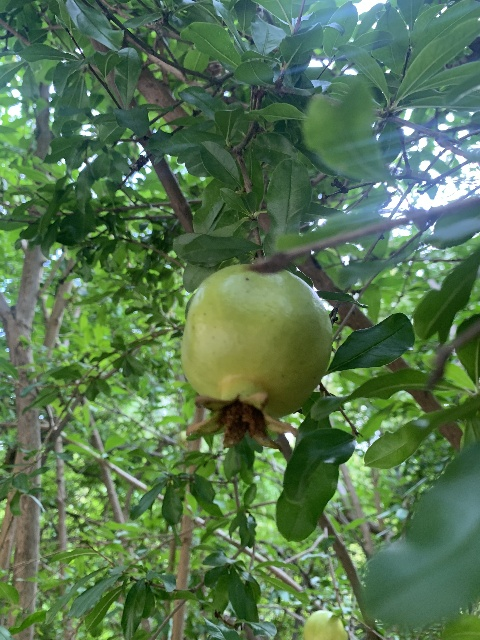mid-growth: (180, 263, 332, 448)
